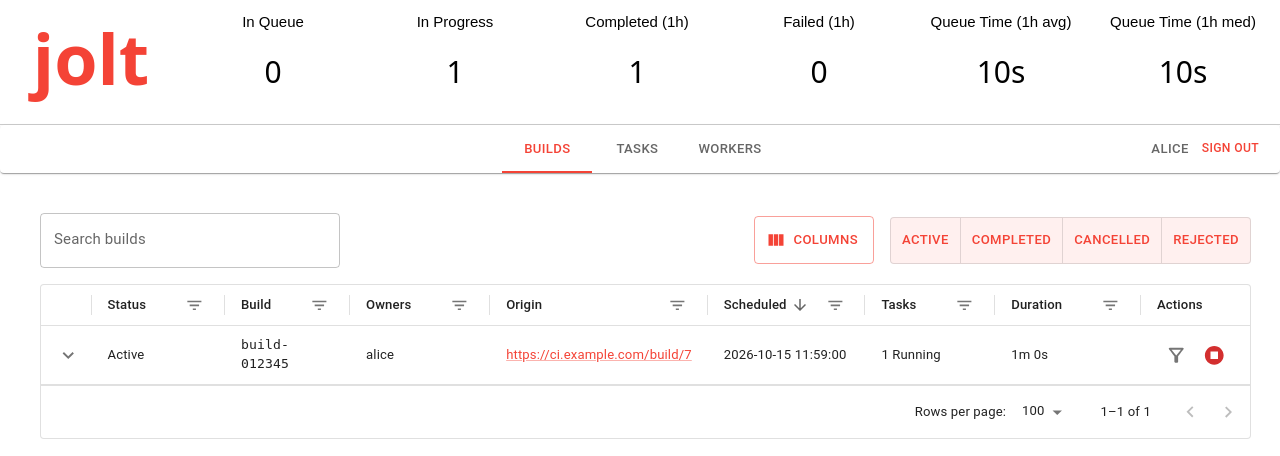
Test: signing out forgets the user
Click the button "Sign out" at (1230, 149), box x1=1197 y1=134 x2=1264 y2=164
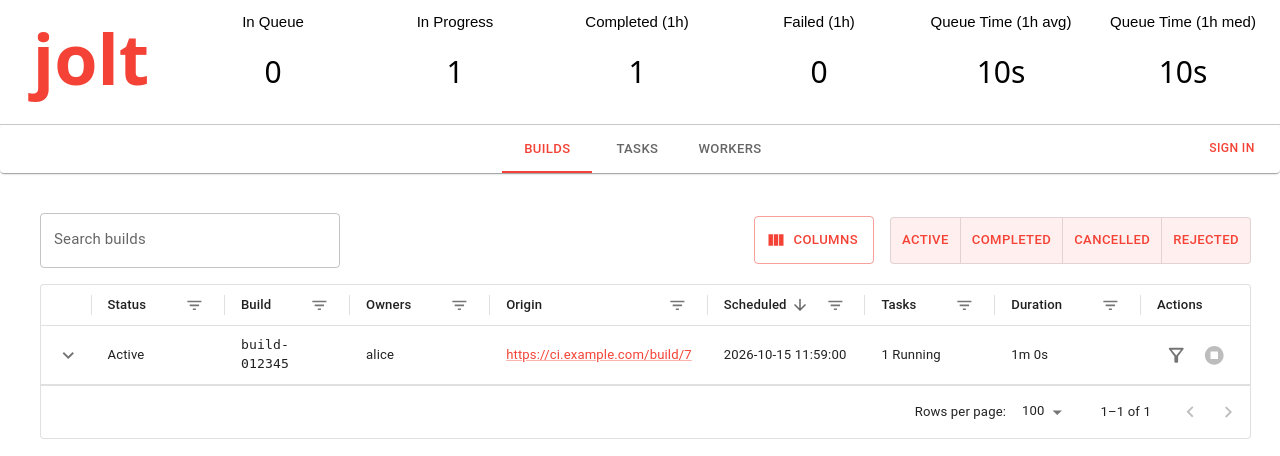
Check: the button "Sign in" is shown, box x1=1200 y1=134 x2=1264 y2=164
